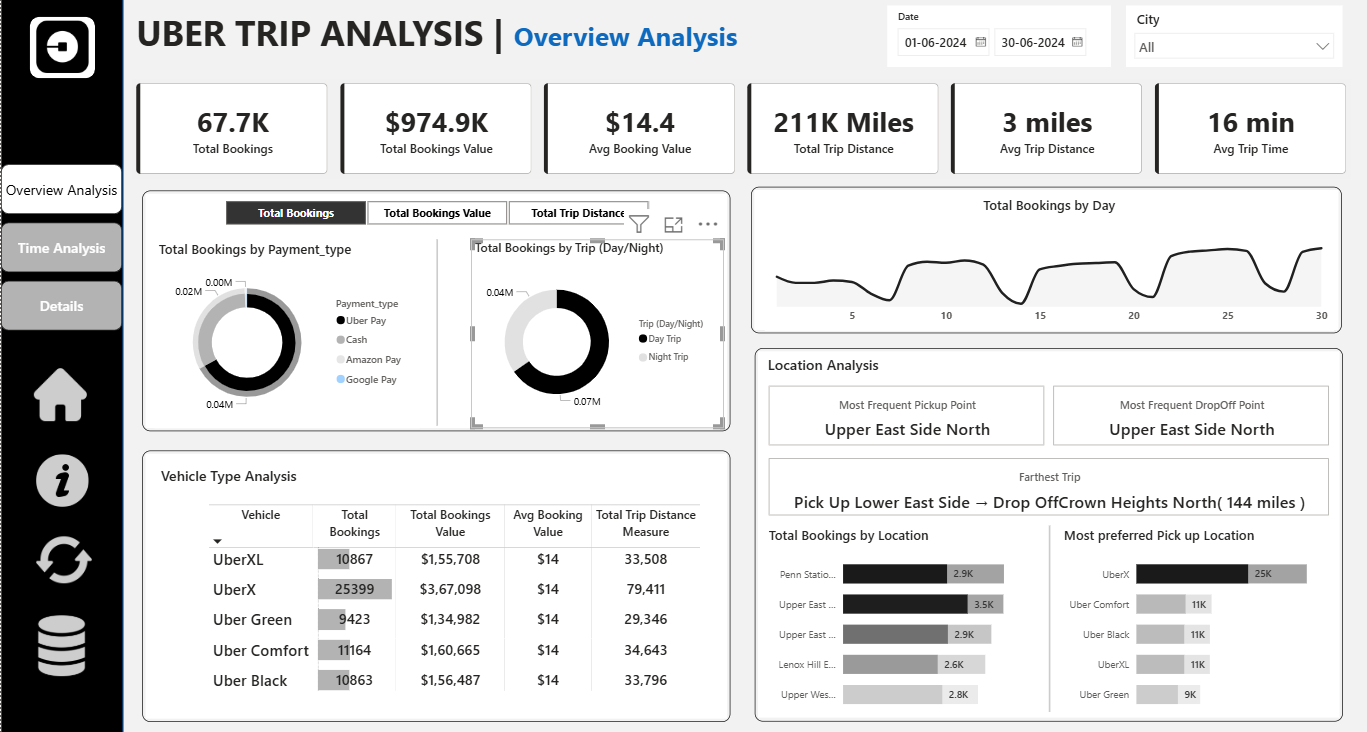

The page's visual inventory and layout, read from the dashboard file:
{"tool":"powerbi","page":{"name":"Overview Analysis","canvas":[1670,900],"ordinal":0},"visuals":[{"type":"shape","box":[921,428.2,719.4,456.5],"z":0},{"type":"shape","box":[917.8,231.4,722.6,179.5],"z":1000},{"type":"shape","box":[173.2,552.6,719.4,332.2],"z":2000},{"type":"shape","box":[173.2,236.1,719.4,294.4],"z":3000},{"type":"cardVisual","fields":{"Data":["Trip Details.Total Bookings","Trip Details.Total Bookings Value","Trip Details.Average Booking Value","Trip Details.Total Trip Distance","Trip Details.Average Trip Distance","Trip Details.Average Trip Time"]},"box":[160.6,99.2,1489.3,121.2],"z":4000},{"type":"slicer","fields":{"Values":["Dynamic Measure.Dynamic Measure"]},"box":[248.7,240.9,566.7,42.5],"z":5000},{"type":"donutChart","fields":{"Y":["Trip Details.Total Bookings"],"Category":["Trip Details.Payment_type"]},"box":[187.3,294.4,324.3,231.4],"z":6000},{"type":"donutChart","fields":{"Y":["Trip Details.Total Bookings"],"Category":["Trip Details.Trip Type (Day/Night)"]},"box":[574,294.4,310.1,231.4],"z":7000},{"type":"pivotTable","fields":{"Rows":["Trip Details.Vehicle"],"Values":["Trip Details.Total Bookings","Trip Details.Total Bookings Value","Trip Details.Avg Booking Value","Trip Details.Total Trip Distance Measure"]},"box":[248.7,614,629.7,256.6],"z":8000},{"type":"areaChart","fields":{"Category":["Calender Table.Date.Variation.Date Hierarchy.Day"],"Y":["Trip Details.Total Bookings"]},"box":[933.6,240.9,695.8,165.3],"z":9000},{"type":"cardVisual","fields":{"Data":["Trip Details.Most Frequent Pickup Point","Trip Details.Most Frequent DropOff Point"]},"box":[933.6,469.1,695.8,83.4],"z":10000},{"type":"cardVisual","fields":{"Data":["Trip Details.Farthest Trip"]},"box":[933.6,557.3,695.8,80.3],"z":11000},{"type":"barChart","fields":{"Category":["Location Table.Location"],"Y":["Trip Details.Total Bookings"]},"box":[933.6,645.5,333.7,239.3],"z":12000},{"type":"barChart","title":"Most preferred Pick up Location","fields":{"Category":["Trip Details.Vehicle"],"Y":["CountNonNull(Trip Details.PULocationID)"]},"box":[1294.1,645.5,346.3,239.3],"z":13000},{"type":"slicer","fields":{"Values":["Calender Table.Date"]},"box":[1083.1,9.4,273.9,75.6],"z":14000},{"type":"slicer","fields":{"Values":["Location Table.City"]},"box":[1375.9,9.4,264.5,75.6],"z":15000},{"type":"shape","box":[0,0,149.6,900.5],"z":16000},{"type":"textbox","box":[160.6,7.9,859.6,77.1],"z":17000},{"type":"card","fields":{"Values":["Trip Details.Title for vehicle"]},"box":[129.1,561,300.7,51],"z":18000},{"type":"card","fields":{"Values":["Trip Details.Title for Location"]},"box":[905.2,431.4,201.5,39.4],"z":19000},{"type":"shape","box":[508.5,294.4,48.8,228.3],"z":20000},{"type":"shape","box":[1262.6,645.5,39.4,228.3],"z":21000},{"type":"shape","box":[34.5,23.5,79.9,75.2],"z":22000},{"type":"image","box":[34.5,23.5,79.9,73.6],"z":23000},{"type":"pageNavigator","box":[0,203.7,148.8,203.7],"z":24000},{"type":"image","box":[30.6,447.9,84.1,74.9],"z":25000},{"type":"image","box":[37.6,553,73.6,73.6],"z":26000},{"type":"image","box":[38.2,645,78,84.1],"z":27000},{"type":"image","box":[32.1,742.9,84.1,97.8],"z":28000}]}

Visuals, with their boxes on the page's 1670x900 design canvas (x1, y1, x2, y2). These are canvas units, not pixel positions in the 1367x732 screenshot, which may show the page scaled, cropped or inside an application window:
shape: 921,428,1640,885
shape: 918,231,1640,411
shape: 173,553,893,885
shape: 173,236,893,530
cardVisual - Trip Details.Total Bookings x Trip Details.Total Bookings Value: 161,99,1650,220
slicer - Dynamic Measure.Dynamic Measure: 249,241,815,283
donutChart - Trip Details.Total Bookings x Trip Details.Payment_type: 187,294,512,526
donutChart - Trip Details.Total Bookings x Trip Details.Trip Type (Day/Night): 574,294,884,526
pivotTable - Trip Details.Vehicle x Trip Details.Total Bookings: 249,614,878,871
areaChart - Calender Table.Date.Variation.Date Hierarchy.Day x Trip Details.Total Bookings: 934,241,1629,406
cardVisual - Trip Details.Most Frequent Pickup Point x Trip Details.Most Frequent DropOff Point: 934,469,1629,552
cardVisual - Trip Details.Farthest Trip: 934,557,1629,638
barChart - Location Table.Location x Trip Details.Total Bookings: 934,646,1267,885
"Most preferred Pick up Location" barChart: 1294,646,1640,885
slicer - Calender Table.Date: 1083,9,1357,85
slicer - Location Table.City: 1376,9,1640,85
shape: 0,0,150,900
textbox: 161,8,1020,85
card - Trip Details.Title for vehicle: 129,561,430,612
card - Trip Details.Title for Location: 905,431,1107,471
shape: 508,294,557,523
shape: 1263,646,1302,874
shape: 34,24,114,99
image: 34,24,114,97
pageNavigator: 0,204,149,407
image: 31,448,115,523
image: 38,553,111,627
image: 38,645,116,729
image: 32,743,116,841
